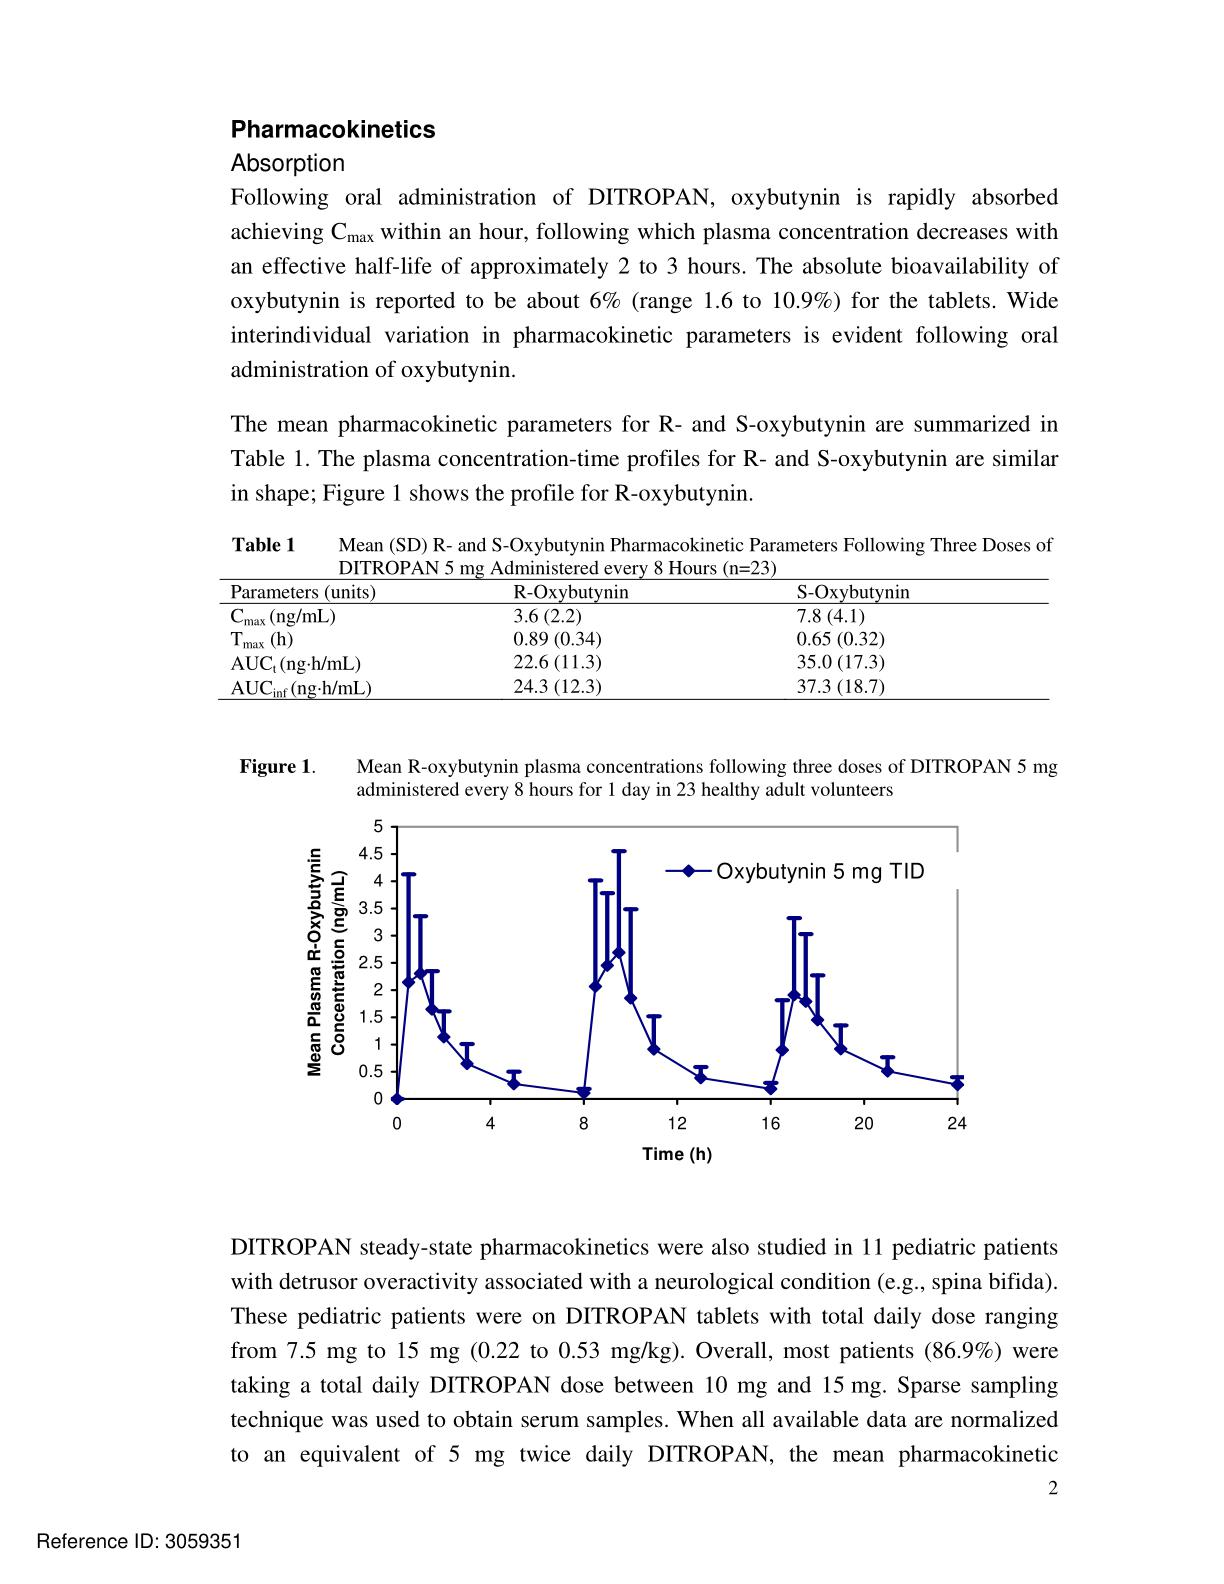partial_lined: (219, 577, 1056, 703)
